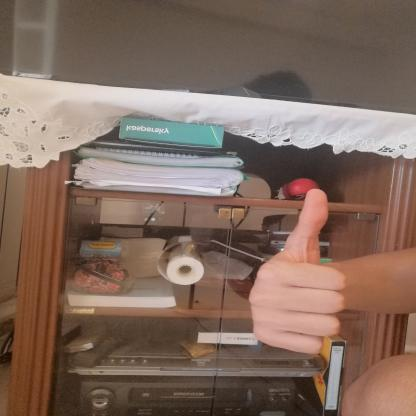ALIF: (241, 178, 356, 361)
